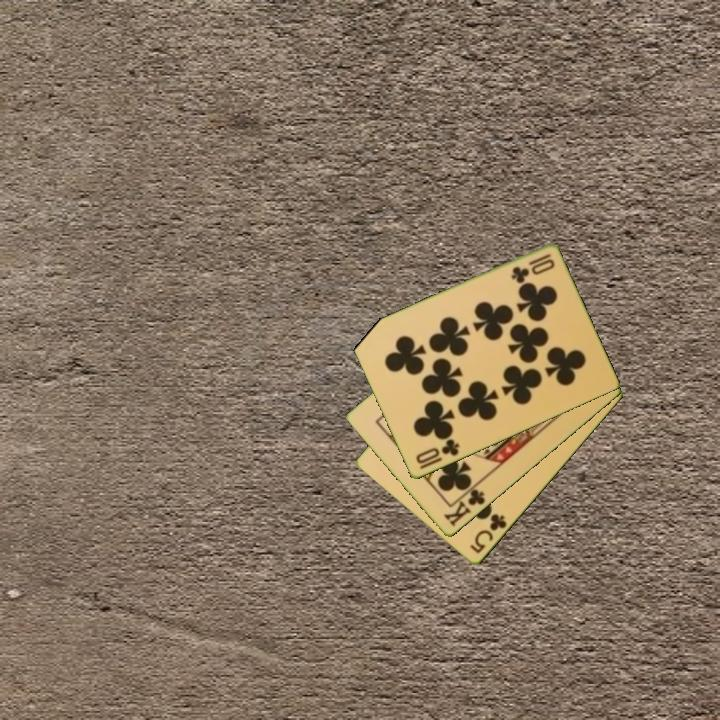10c: (412, 436, 462, 472), (507, 251, 554, 285)
5c: (466, 510, 510, 557)
Kc: (440, 481, 488, 530)
